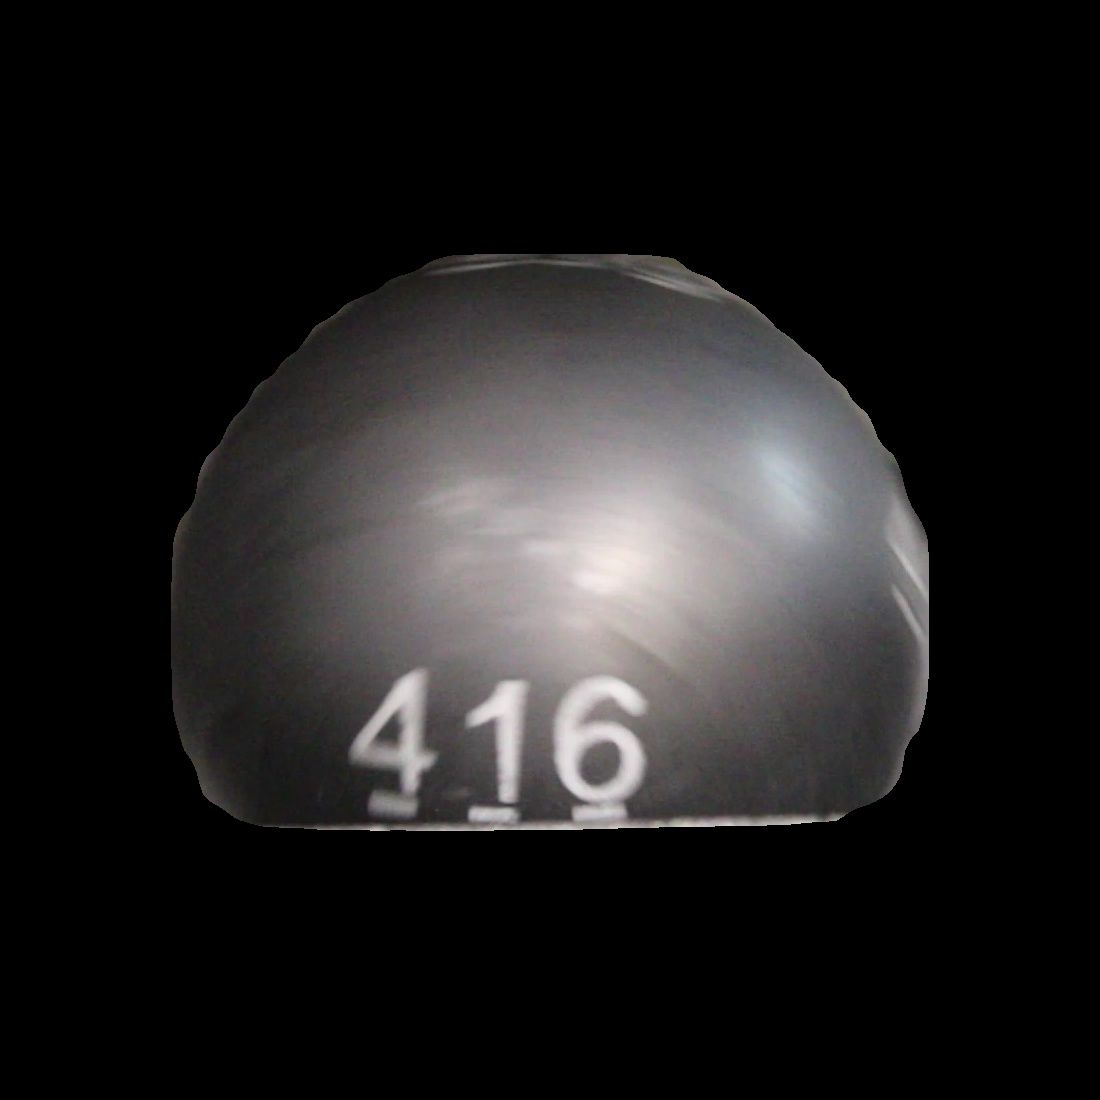digits: (346, 659, 654, 830)
